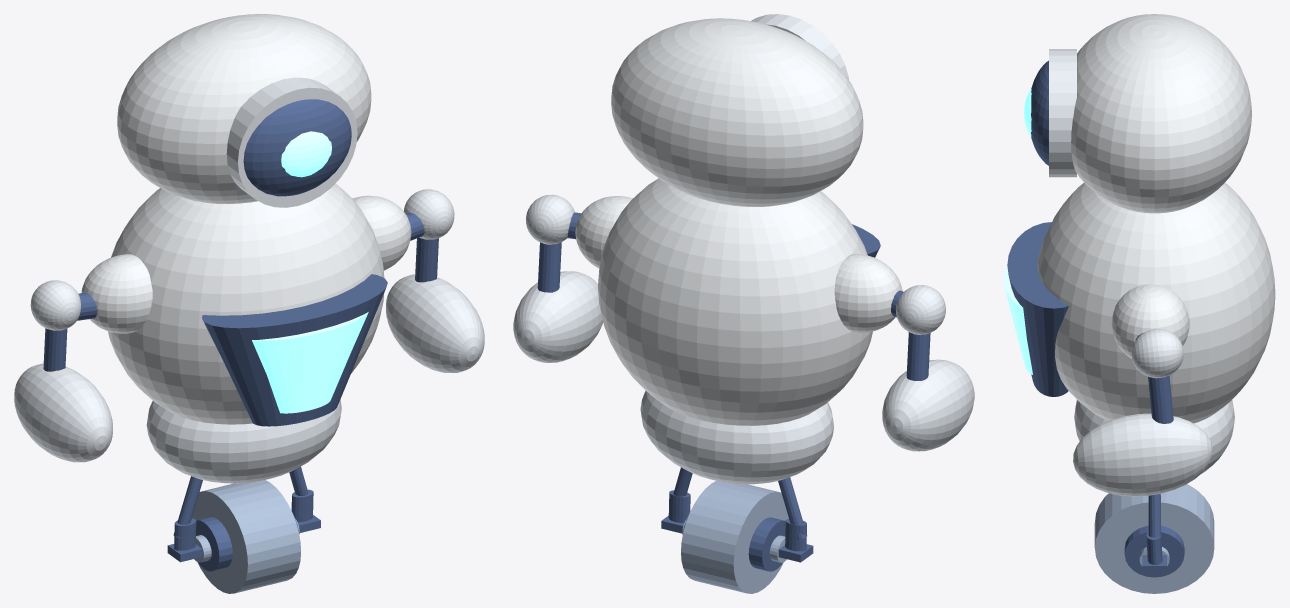
Rendered from rook.glb.
The picture shows the model from 3 angles, left to right: view 1: azimuth 30°, elevation 25°; view 2: azimuth 150°, elevation 25°; view 3: azimuth 270°, elevation 25°; orthographic projection.
Visible parts, largest first — view 1: rook_body_shell, rook_head_shell, rook_body_lower, rook_core_frame, rook_wheel, rook_hand_left, rook_hand_left.001, rook_core_shield, rook_eye_socket, rook_eye_ring, rook_shoulder_left, rook_shoulder_right (+8 smaller); view 2: rook_body_shell, rook_head_shell, rook_body_lower, rook_wheel, rook_hand_left, rook_hand_left.001, rook_shoulder_left, rook_shoulder_right, rook_hand_left.002, rook_hand_left.003, rook_eye_ring, rook_wheel_hub (+4 smaller); view 3: rook_body_shell, rook_head_shell, rook_hand_left.001, rook_wheel, rook_core_frame, rook_shoulder_right, rook_eye_ring, rook_hand_left.003, rook_body_lower, rook_wheel_hub, rook_eye_socket, rook_arm_left_lower.001 (+3 smaller).
Boxes of the visible parts, x1,y1,x2,y2 form: rook_body_shell: (108,183,384,424); rook_head_shell: (117,14,371,203); rook_body_lower: (146,399,341,483); rook_core_frame: (202,274,387,426); rook_wheel: (192,480,300,593); rook_hand_left: (14,363,112,462); rook_hand_left.001: (386,274,484,372); rook_core_shield: (252,312,368,413); rook_eye_socket: (243,99,351,196); rook_eye_ring: (226,77,357,207); rook_shoulder_left: (81,254,152,333); rook_shoulder_right: (352,195,411,270); rook_body_shell: (598,178,872,425); rook_head_shell: (611,18,863,206); rook_body_lower: (640,391,833,484); rook_wheel: (681,481,788,593); rook_hand_left: (882,359,974,451); rook_hand_left.001: (513,271,603,362); rook_shoulder_left: (834,254,902,332); rook_shoulder_right: (575,196,632,268); rook_hand_left.002: (896,285,945,334); rook_hand_left.003: (526,194,574,244); rook_eye_ring: (751,14,848,79); rook_wheel_hub: (682,515,785,571); rook_body_shell: (1037,182,1275,423); rook_head_shell: (1071,14,1251,213); rook_hand_left.001: (1073,413,1212,496); rook_wheel: (1094,484,1214,593); rook_core_frame: (1007,222,1068,396); rook_shoulder_right: (1111,284,1189,358); rook_eye_ring: (1049,49,1076,177); rook_hand_left.003: (1131,329,1183,378); rook_body_lower: (1074,400,1234,474); rook_wheel_hub: (1124,525,1184,577); rook_eye_socket: (1031,60,1048,165); rook_arm_left_lower.001: (1148,375,1173,423).
Bounding box in the file's own units: 1.28 × 1.56 × 0.6976.
